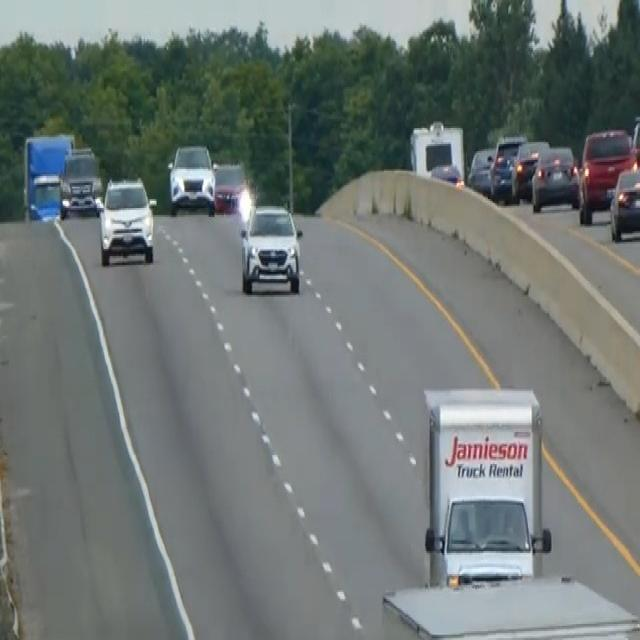car: (577, 125, 636, 222), (97, 174, 156, 267), (167, 141, 216, 215), (531, 142, 580, 212), (59, 144, 102, 219), (488, 133, 526, 203), (608, 164, 639, 242), (512, 137, 549, 199), (212, 158, 246, 214), (28, 170, 63, 220), (467, 146, 495, 196), (429, 160, 463, 187), (631, 114, 639, 169)
jeep: (237, 197, 303, 297)
truck: (421, 382, 550, 587)
